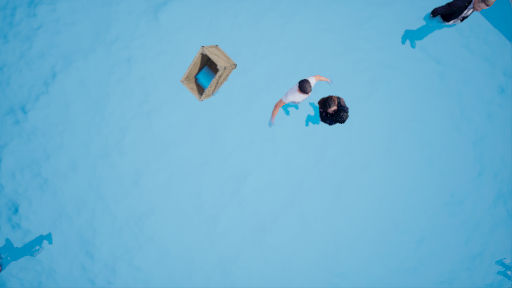person: (271, 73, 361, 148)
